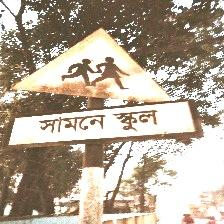School-in-front: (8, 26, 197, 147)
